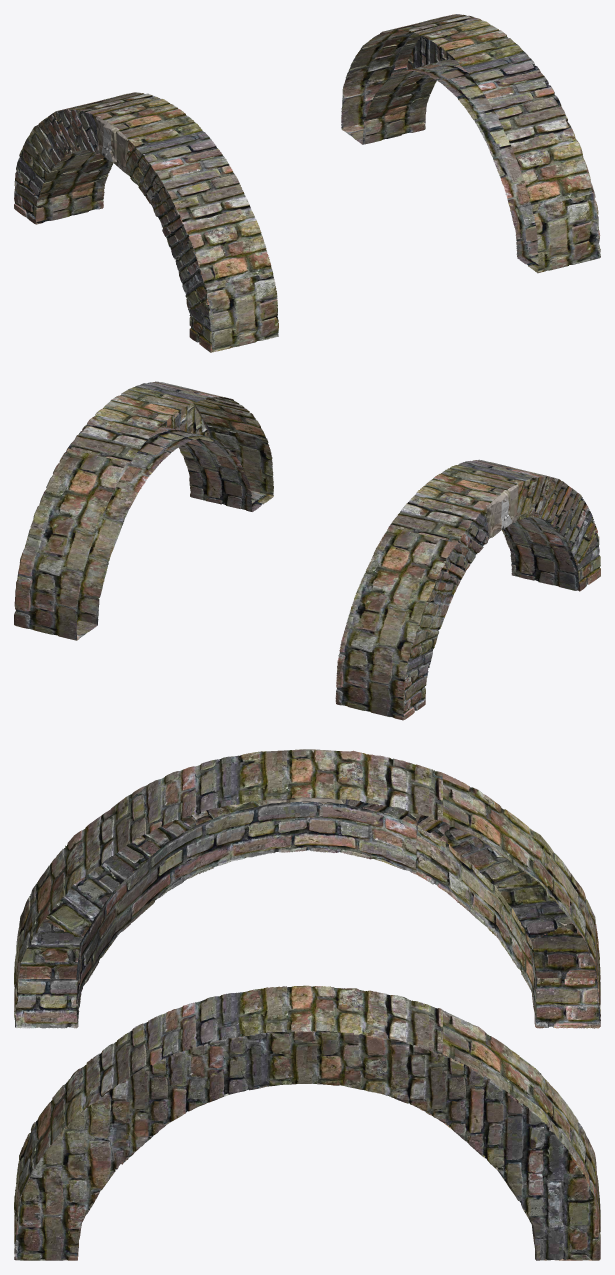
The model's file is Arcos_6.glb.
3 renders of one model, top to bottom at view 1: azimuth 30°, elevation 25°; view 2: azimuth 150°, elevation 25°; view 3: azimuth 270°, elevation 25°, orthographic. The views are drawn at different scales.
Visible parts, largest first — view 1: Arco.015; view 2: Arco.015; view 3: Arco.015.
Part boxes in pixels (x1,y1,x2,y2): Arco.015: (14,14,600,352); Arco.015: (14,381,600,720); Arco.015: (14,749,600,1260).
Bounding box in the file's own units: 15.76 × 5.93 × 13.65.
Materials: 3 (3 with a texture image).
